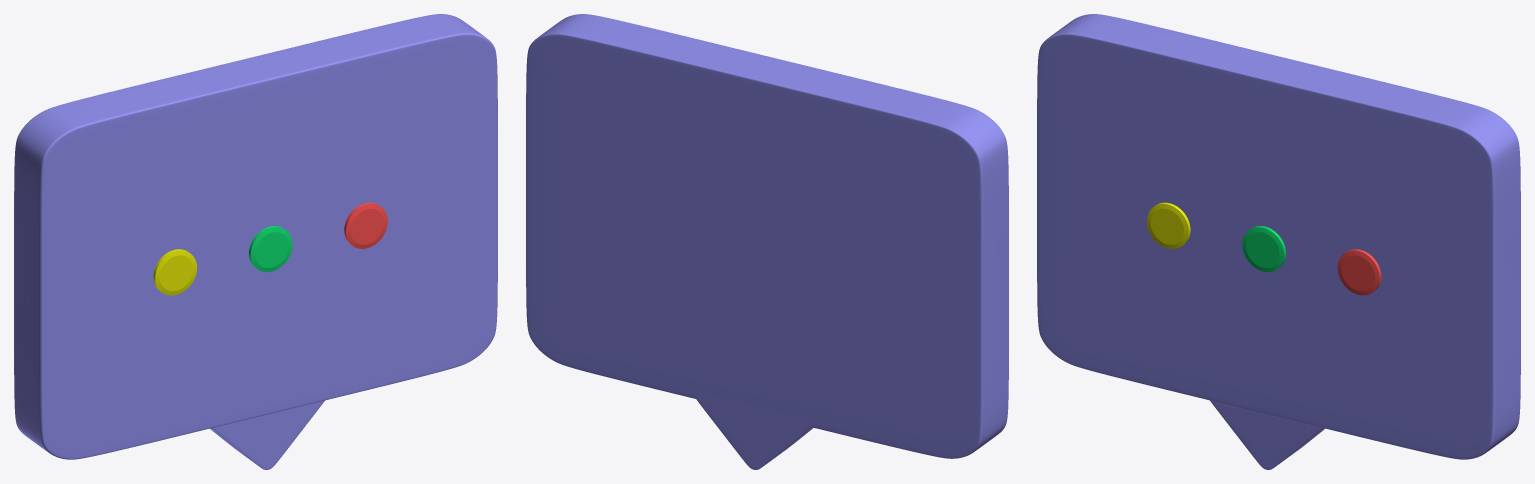
The model's file is social.gltf.
3 renders of one model, left to right at view 1: azimuth 30°, elevation 25°; view 2: azimuth 150°, elevation 25°; view 3: azimuth 330°, elevation 25°, orthographic.
Parts seen in each view (by area): view 1: Rounded Cube Flat, Rounded Cube Flat 2, Cylinder 5, Cylinder 3, Cylinder 4; view 2: Rounded Cube Flat, Rounded Cube Flat 2; view 3: Rounded Cube Flat, Rounded Cube Flat 2, Cylinder 3, Cylinder 5, Cylinder 4.
Part boxes in pixels (x1=…): Rounded Cube Flat: x1=14, y1=14, x2=497, y2=459; Rounded Cube Flat 2: x1=210, y1=400, x2=324, y2=469; Cylinder 5: x1=153, y1=249, x2=197, y2=295; Cylinder 3: x1=344, y1=202, x2=387, y2=248; Cylinder 4: x1=249, y1=226, x2=292, y2=272; Rounded Cube Flat: x1=526, y1=14, x2=1008, y2=458; Rounded Cube Flat 2: x1=694, y1=392, x2=813, y2=469; Rounded Cube Flat: x1=1037, y1=14, x2=1520, y2=459; Rounded Cube Flat 2: x1=1210, y1=400, x2=1324, y2=469; Cylinder 3: x1=1337, y1=249, x2=1381, y2=295; Cylinder 5: x1=1147, y1=202, x2=1190, y2=248; Cylinder 4: x1=1242, y1=226, x2=1285, y2=272.
Bounding box in the file's own units: 0.4305 × 0.3517 × 0.0489.
